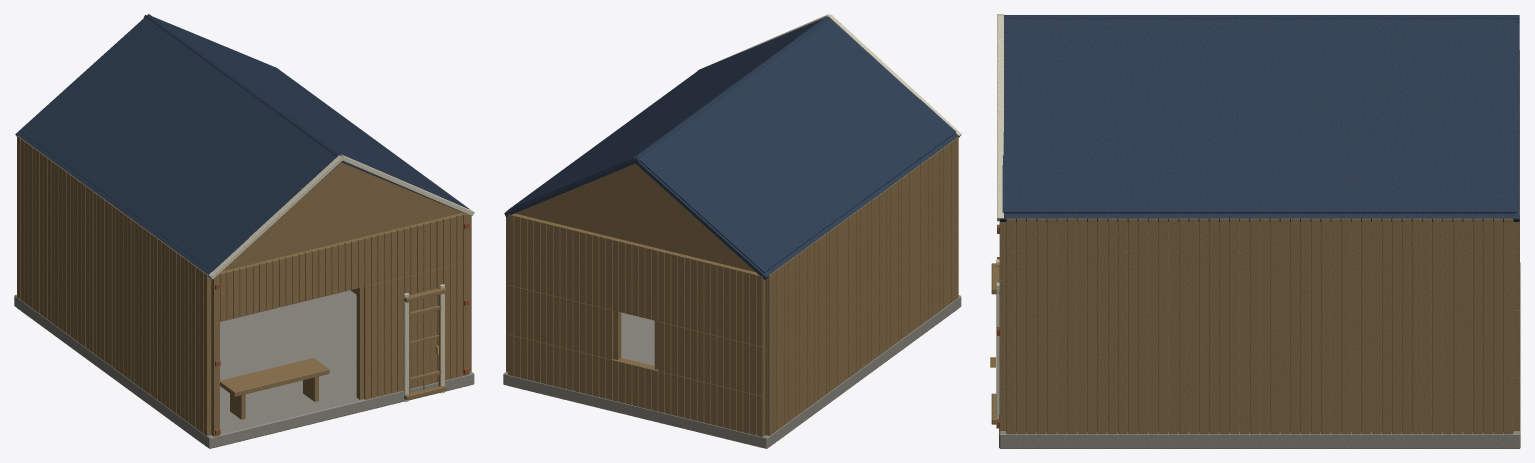
The model's file is BARN32_lod0.glb.
The picture shows the model from 3 angles, left to right: view 1: azimuth 30°, elevation 25°; view 2: azimuth 150°, elevation 25°; view 3: azimuth 270°, elevation 25°; orthographic projection. The views are drawn at different scales.
Parts seen in each view (by area): view 1: BARN32_LOD0; view 2: BARN32_LOD0; view 3: BARN32_LOD0.
Boxes of the visible parts, x1,y1,x2,y2 form: BARN32_LOD0: (14, 14, 474, 448); BARN32_LOD0: (503, 14, 961, 448); BARN32_LOD0: (990, 14, 1520, 448).
Bounding box in the file's own units: 7.25 × 6.81 × 9.41.
10 materials, 7 textured.
